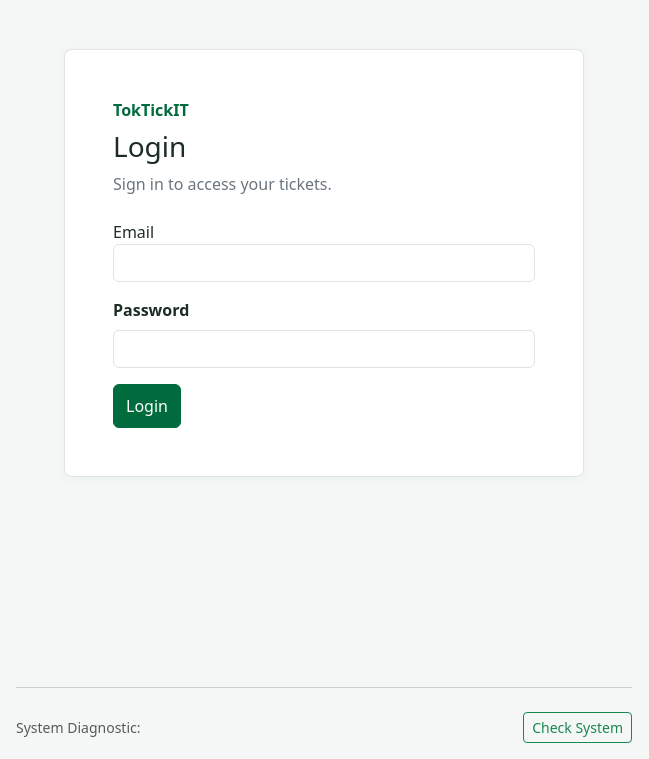
App › shows Online and the seeded categories on success
(page scrolled)
Click the button "Check System".
click(578, 728)  # box [523,712,632,743]
(page scrolled)
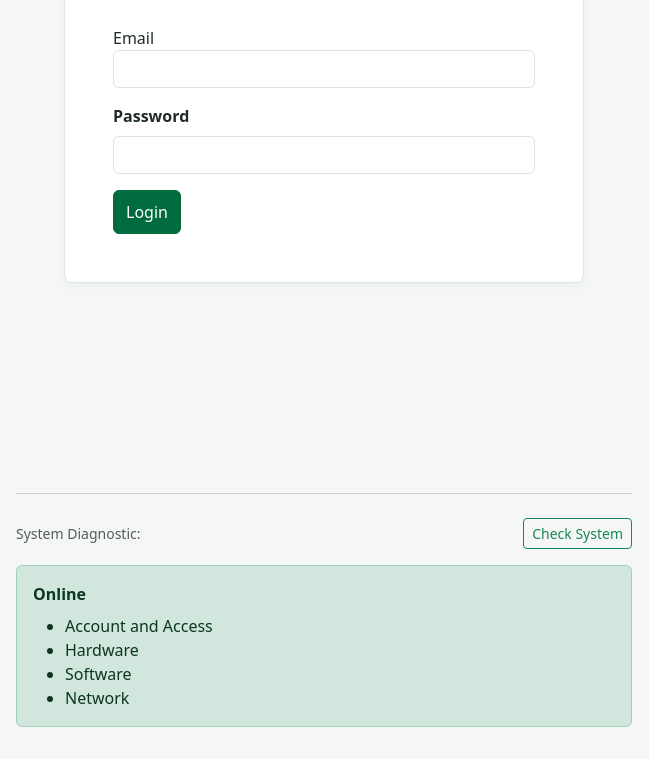
Now the text "Online" is shown, box [33,583,86,605]
Now the list item "Account and Access" is shown, box [65,615,213,637]
Now the list item "Hardware" is shown, box [65,639,139,661]
